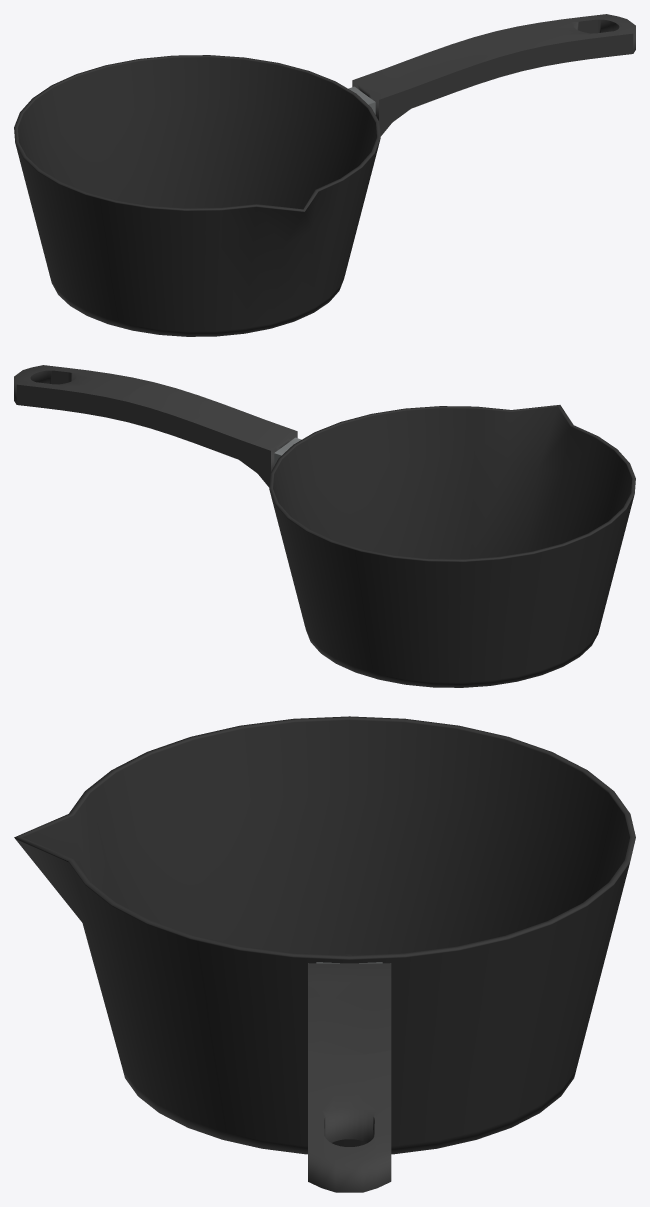
Rendered from panci.fbx.
The picture shows the model from 3 angles, top to bottom: view 1: azimuth 30°, elevation 25°; view 2: azimuth 150°, elevation 25°; view 3: azimuth 270°, elevation 25°; orthographic projection. The views are drawn at different scales.
Parts seen in each view (by area): view 1: Cylinder, Cube; view 2: Cylinder, Cube; view 3: Cylinder, Cube.
Part boxes in pixels (left/top/right/bottom): Cylinder: left=14, top=55, right=380, bottom=336; Cube: left=348, top=14, right=635, bottom=136; Cylinder: left=269, top=405, right=635, bottom=687; Cube: left=14, top=365, right=301, bottom=487; Cylinder: left=14, top=716, right=635, bottom=1154; Cube: left=308, top=962, right=391, bottom=1192.
Size of the model in its own units: 345 by 87.63 by 201.
1 material, 1 textured.
